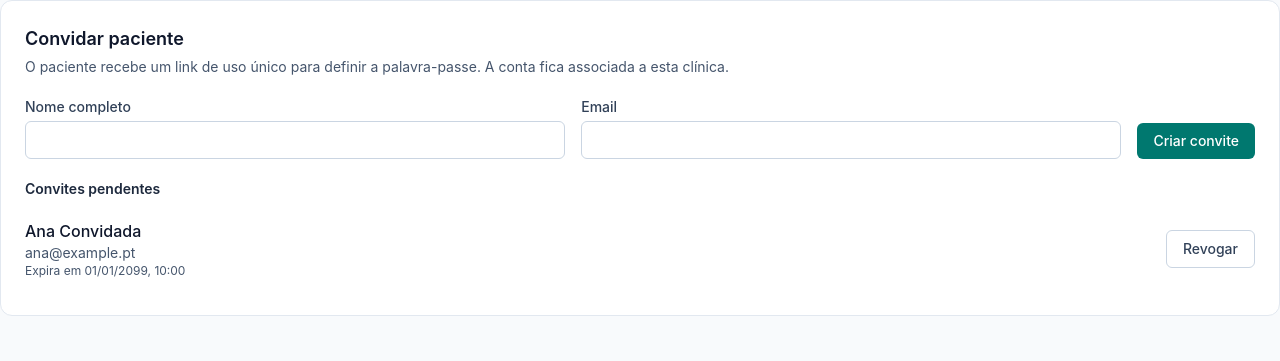
Test case: PatientInvitationsPanel › revokes a pending invitation and surfaces failures
Click the button with aria-label "Revogar convite de Ana Convidada" at (1210, 249), box [1166,230,1255,268]
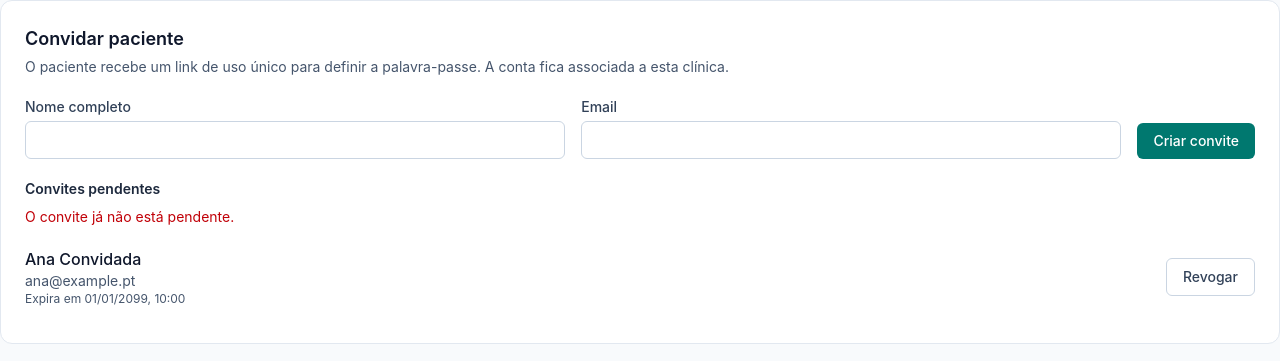
Result: the message reads "O convite já não está pendente." at [25,208,234,225]
Click the button with aria-label "Revogar convite de Ana Convidada" at (1210, 277), box [1166,258,1255,296]
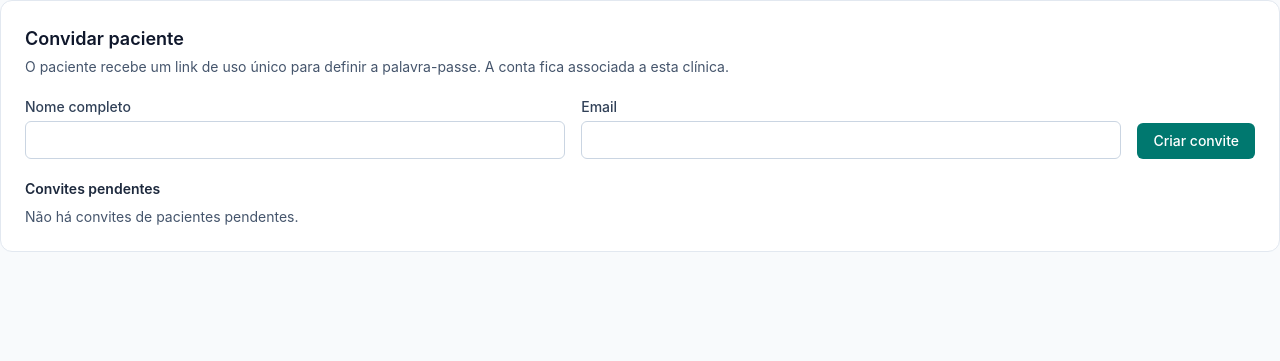
Result: the text "Não há convites de pacientes pendentes." is shown at [25,208,298,225]
